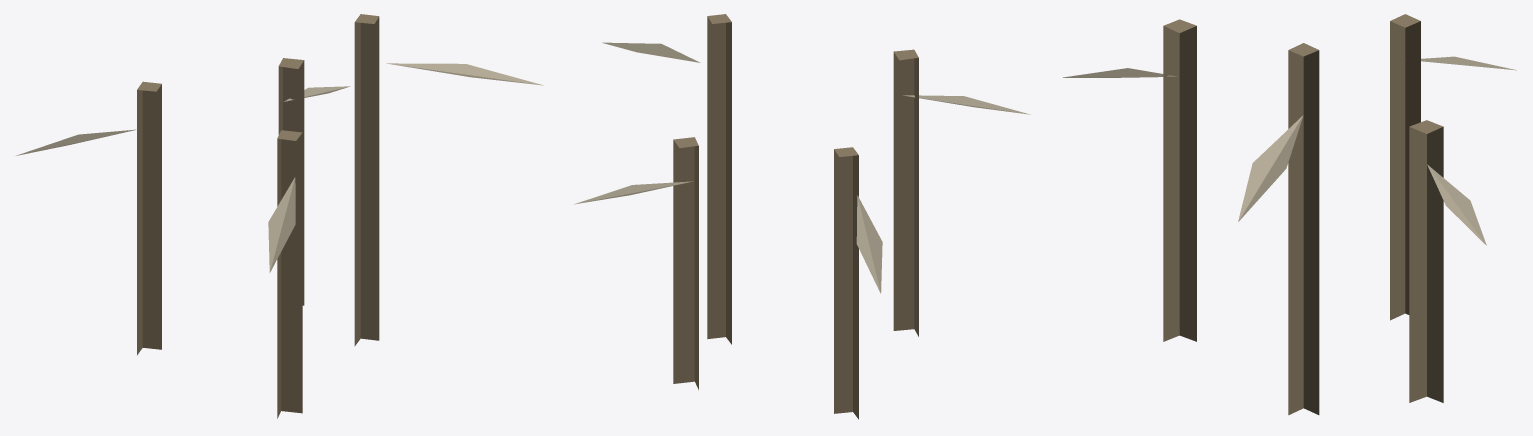
Rendered from hua.zhu@withered__spring.glb.
3 views of the same model, side by side, from view 1: azimuth 30°, elevation 25°; view 2: azimuth 150°, elevation 25°; view 3: azimuth 270°, elevation 25° (orthographic). The views are drawn at different scales.
Parts seen in each view (by area): view 1: hua.zhu@withered__spring; view 2: hua.zhu@withered__spring; view 3: hua.zhu@withered__spring.
Part boxes in pixels (box(x1,y1,x2,y2)): hua.zhu@withered__spring: box(16, 14, 543, 418); hua.zhu@withered__spring: box(574, 14, 1029, 419); hua.zhu@withered__spring: box(1063, 14, 1516, 415).
Bounding box in the file's own units: 2.47 × 1.88 × 2.14.
